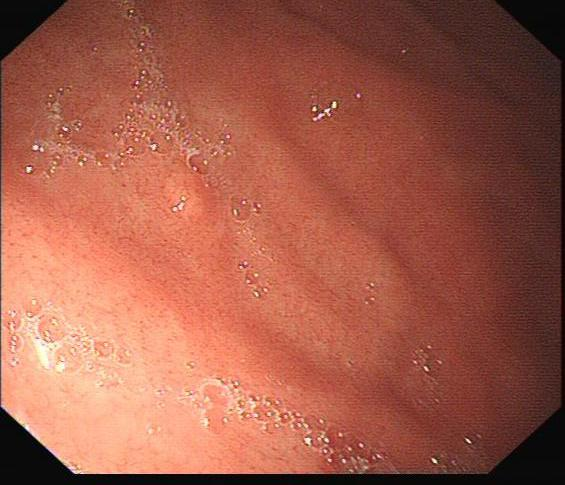Polyp: (145, 158, 231, 224)
